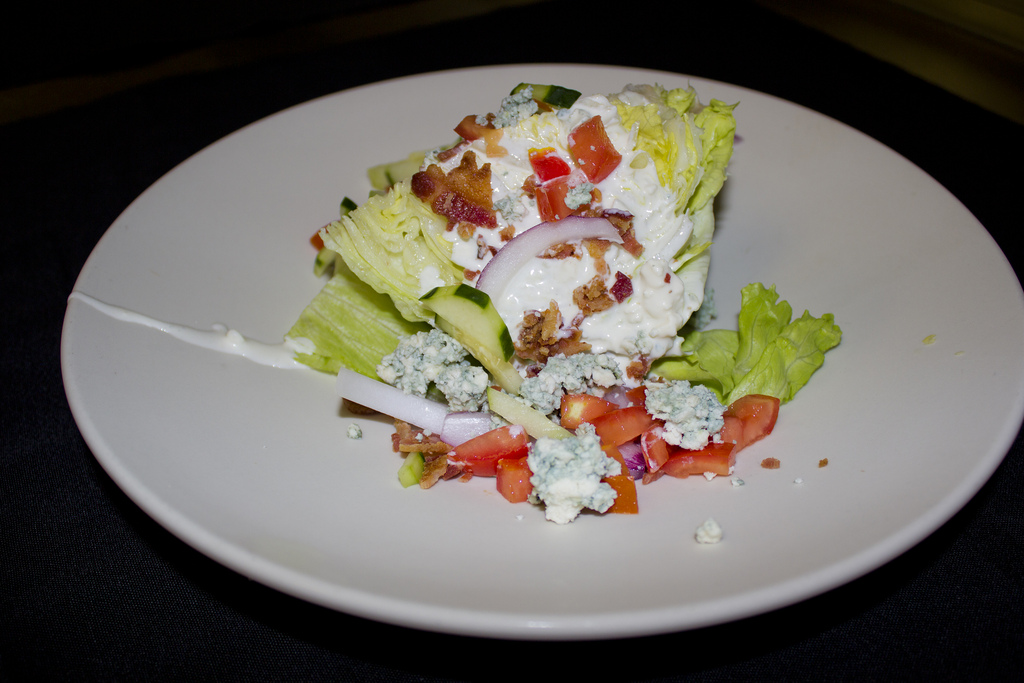chopped lettuce: (642, 117, 818, 408), (304, 167, 453, 369)
